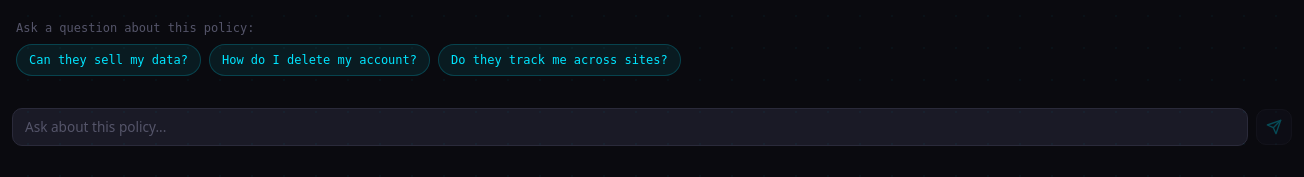
Scenario: PolicyChat › displays assistant response
Type "Is my data encrypted?" into the field with placeholder "Ask about this policy...".
click(630, 127); type("Is my data encrypted?")  # box [12,108,1248,146]
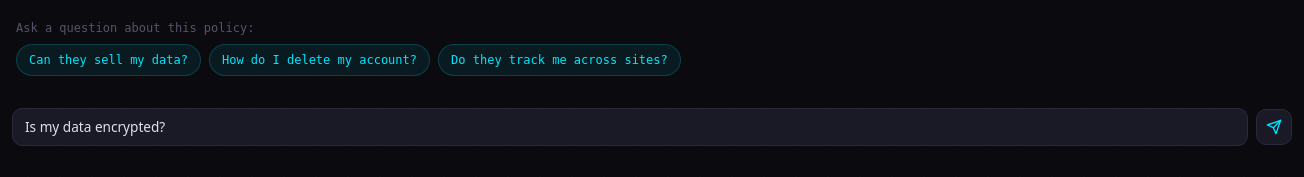
Click the button named "Send message".
click(1274, 127)  # box [1256,109,1292,145]
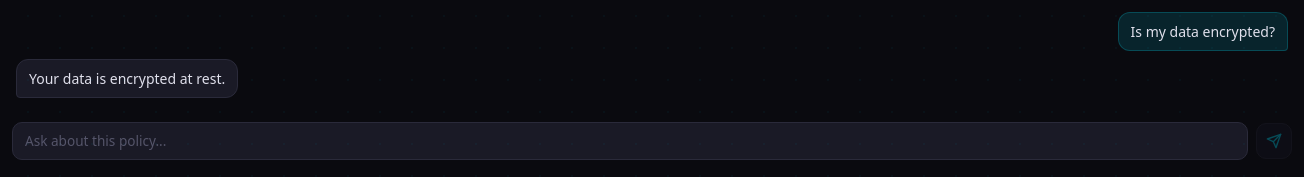
Check: the text "Your data is encrypted at rest." is shown, box [29,69,225,88]
